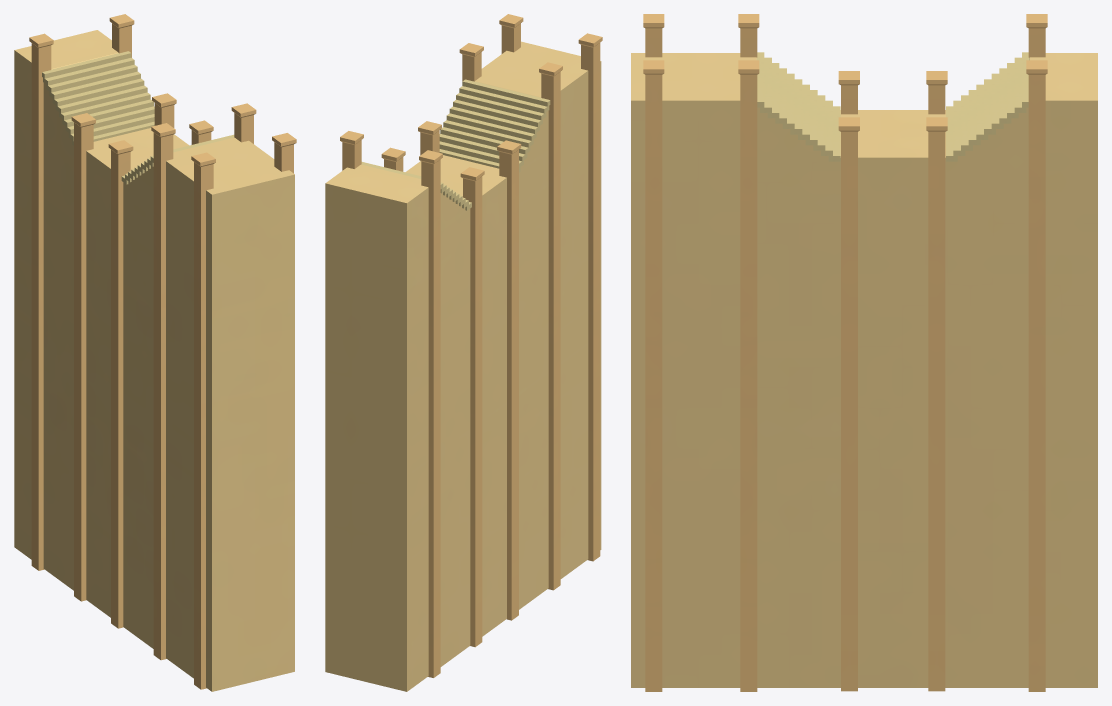
The model's file is Structure01-Restored.fbx.
The picture shows the model from 3 angles, left to right: view 1: azimuth 30°, elevation 25°; view 2: azimuth 150°, elevation 25°; view 3: azimuth 270°, elevation 25°; orthographic projection. The views are drawn at different scales.
Visible parts, largest first — view 1: Structure01-Restored; view 2: Structure01-Restored; view 3: Structure01-Restored.
Boxes of the visible parts, <box> form: Structure01-Restored: <box>14,14,296,691</box>; Structure01-Restored: <box>325,14,602,691</box>; Structure01-Restored: <box>631,14,1097,691</box>.
Bounding box in the file's own units: 1539 × 8077 × 5479.
